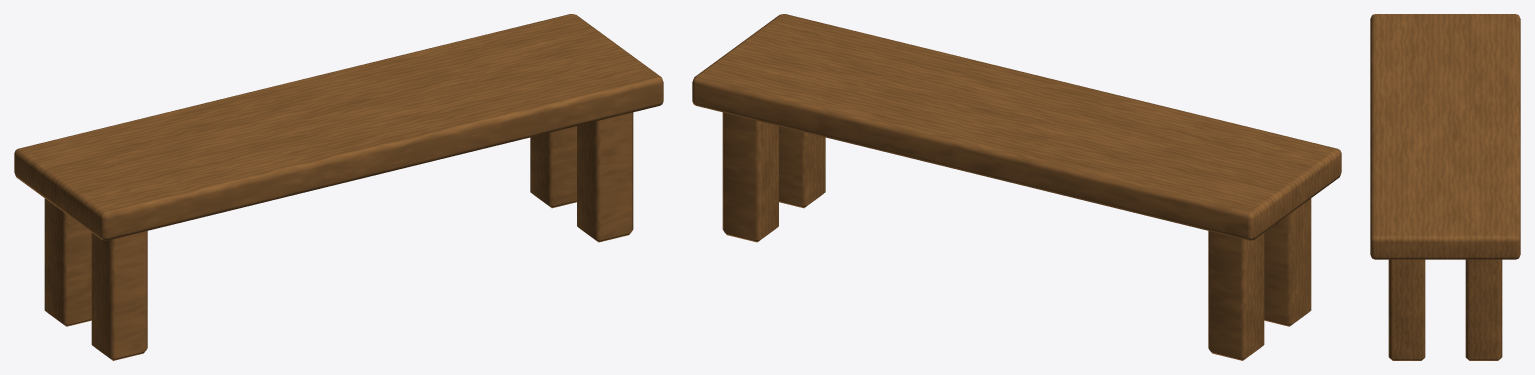
Rendered from Furn_DressingBench.fbx.
3 renders of one model, left to right at view 1: azimuth 30°, elevation 25°; view 2: azimuth 150°, elevation 25°; view 3: azimuth 270°, elevation 25°, orthographic. The views are drawn at different scales.
Visible parts, largest first — view 1: Furn_DressingBench_Mesh; view 2: Furn_DressingBench_Mesh; view 3: Furn_DressingBench_Mesh.
Boxes of the visible parts, box(x1,y1,x2,y2) form: Furn_DressingBench_Mesh: box(14, 14, 663, 360); Furn_DressingBench_Mesh: box(692, 14, 1341, 360); Furn_DressingBench_Mesh: box(1370, 14, 1520, 360).
Size of the model in its own units: 1.6 by 0.44 by 0.45.
1 material, 1 textured.
